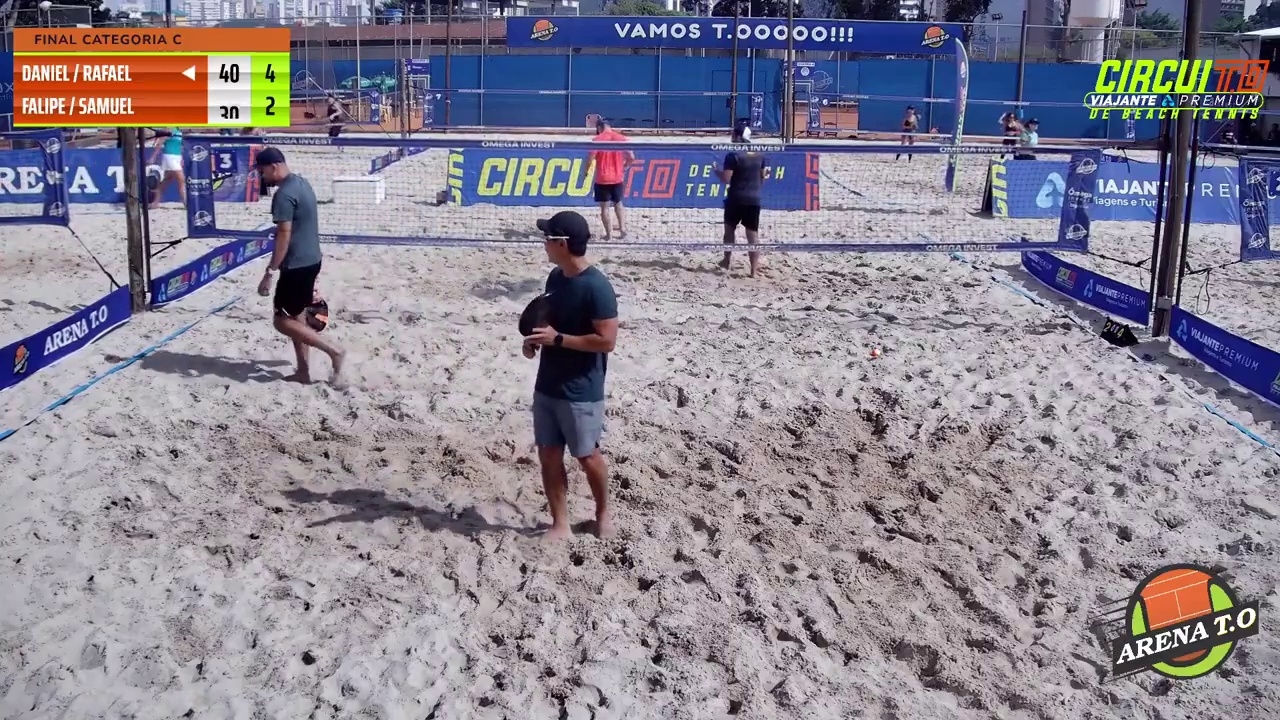court_line: (642, 0, 795, 344)
